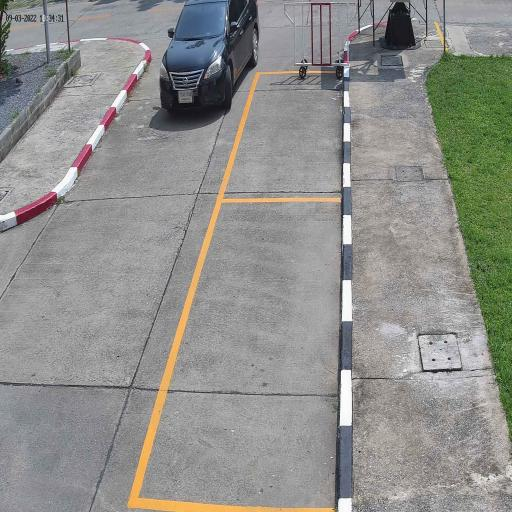car: (159, 0, 260, 115)
